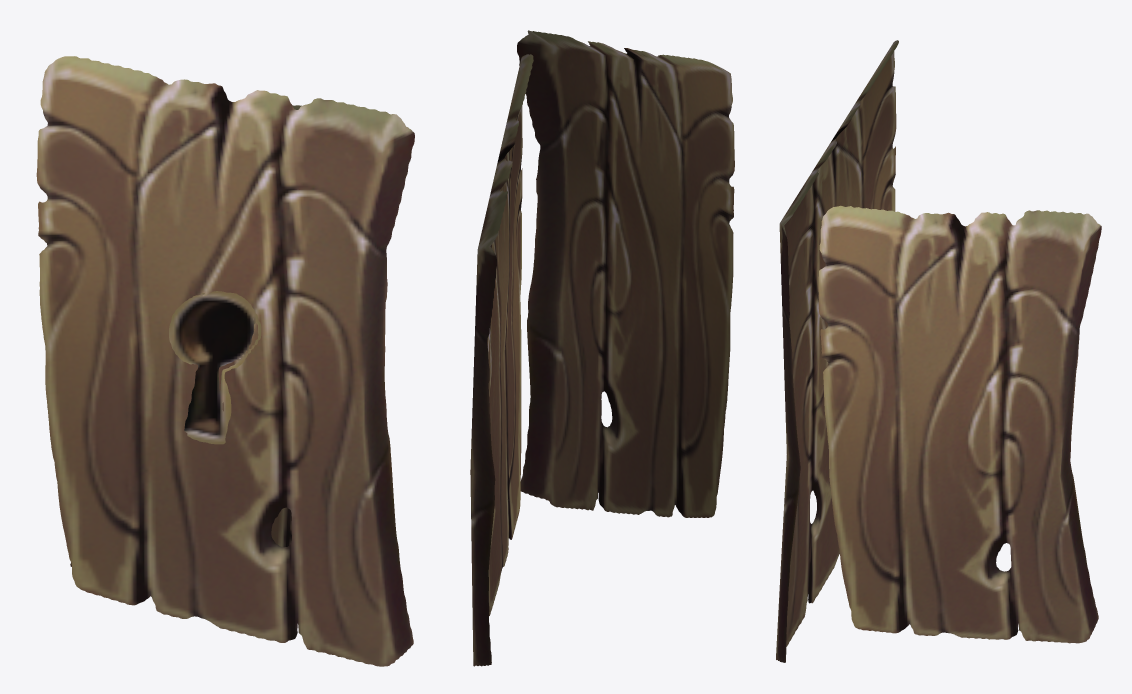
The model's file is Rustic Door.FBX.
The picture shows the model from 3 angles, left to right: view 1: azimuth 30°, elevation 25°; view 2: azimuth 150°, elevation 25°; view 3: azimuth 270°, elevation 25°; orthographic projection. The views are drawn at different scales.
Parts seen in each view (by area): view 1: Rustic Door; view 2: Rustic Door; view 3: Rustic Door.
Boxes of the visible parts, <box> form: Rustic Door: <box>36,56,414,666</box>; Rustic Door: <box>470,30,734,666</box>; Rustic Door: <box>776,40,1101,662</box>.
Size of the model in its own units: 149 by 147 by 272.
